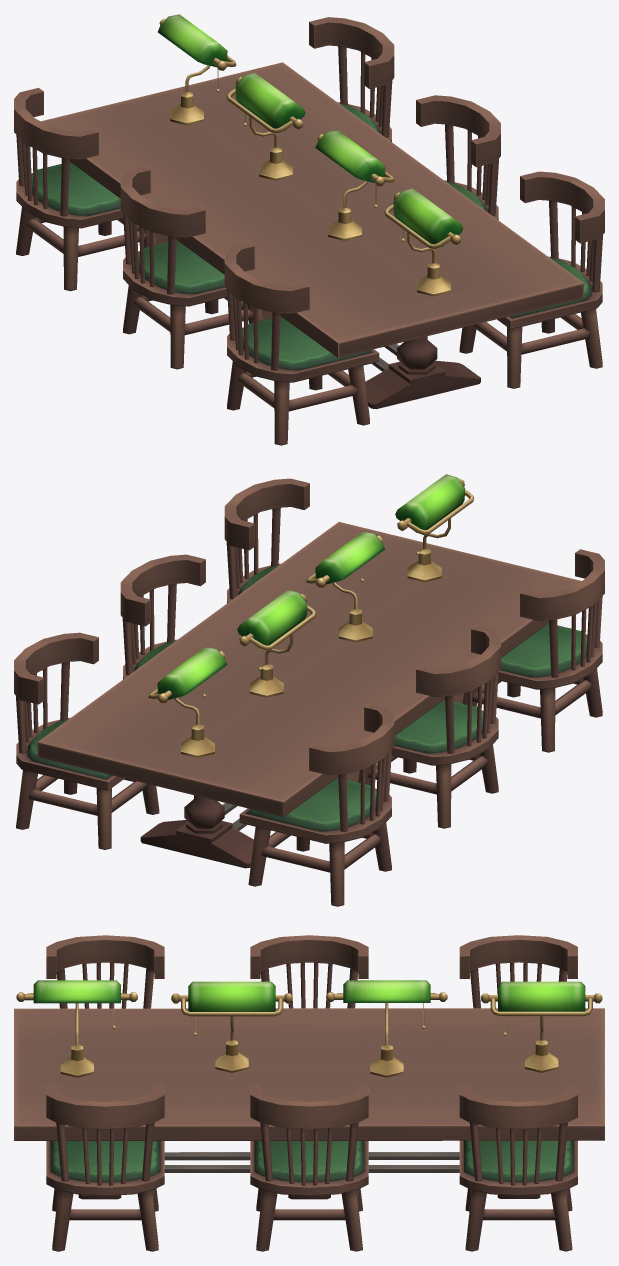
The model's file is my_wildhunt_01_table_01.glb.
3 renders of one model, top to bottom at view 1: azimuth 30°, elevation 25°; view 2: azimuth 150°, elevation 25°; view 3: azimuth 270°, elevation 25°, orthographic.
Visible parts, largest first — view 1: my_wildhunt_01_table_01; view 2: my_wildhunt_01_table_01; view 3: my_wildhunt_01_table_01.
Boxes of the visible parts, left/top/right/bottom form: my_wildhunt_01_table_01: left=14, top=14, right=604, bottom=445; my_wildhunt_01_table_01: left=14, top=474, right=604, bottom=906; my_wildhunt_01_table_01: left=14, top=935, right=604, bottom=1251.
Bounding box in the file's own units: 0.0119 × 0.00616 × 0.0174.
Materials: 1 (1 with a texture image).
